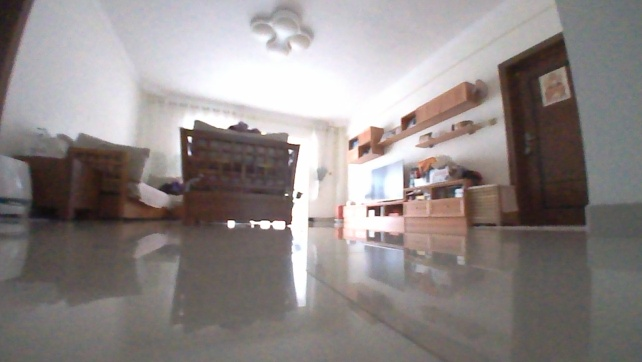door_anno: (495, 29, 590, 230)
sofa: (59, 132, 187, 221)
